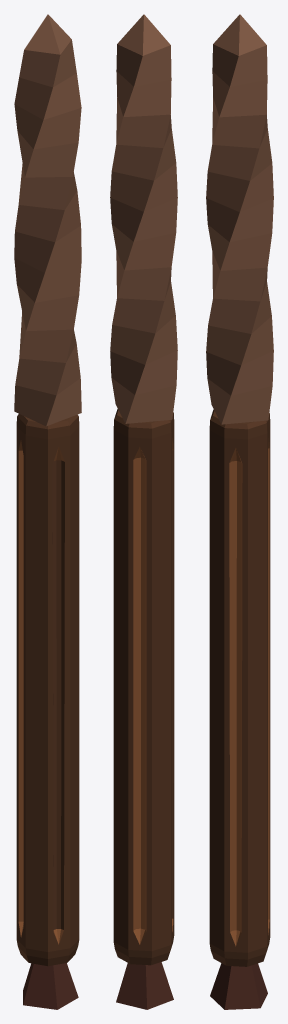
The model's file is Wand 558.glb.
3 renders of one model, left to right at view 1: azimuth 90°, elevation 25°; view 2: azimuth 150°, elevation 25°; view 3: azimuth 330°, elevation 25°, orthographic.
Parts seen in each view (by area): view 1: GeneratedWand; view 2: GeneratedWand; view 3: GeneratedWand.
Boxes of the visible parts, x1,y1,x2,y2 form: GeneratedWand: [14, 14, 81, 1009]; GeneratedWand: [110, 14, 177, 1009]; GeneratedWand: [206, 14, 273, 1009].
Size of the model in its own units: 0.0311 by 0.4994 by 0.0311.
